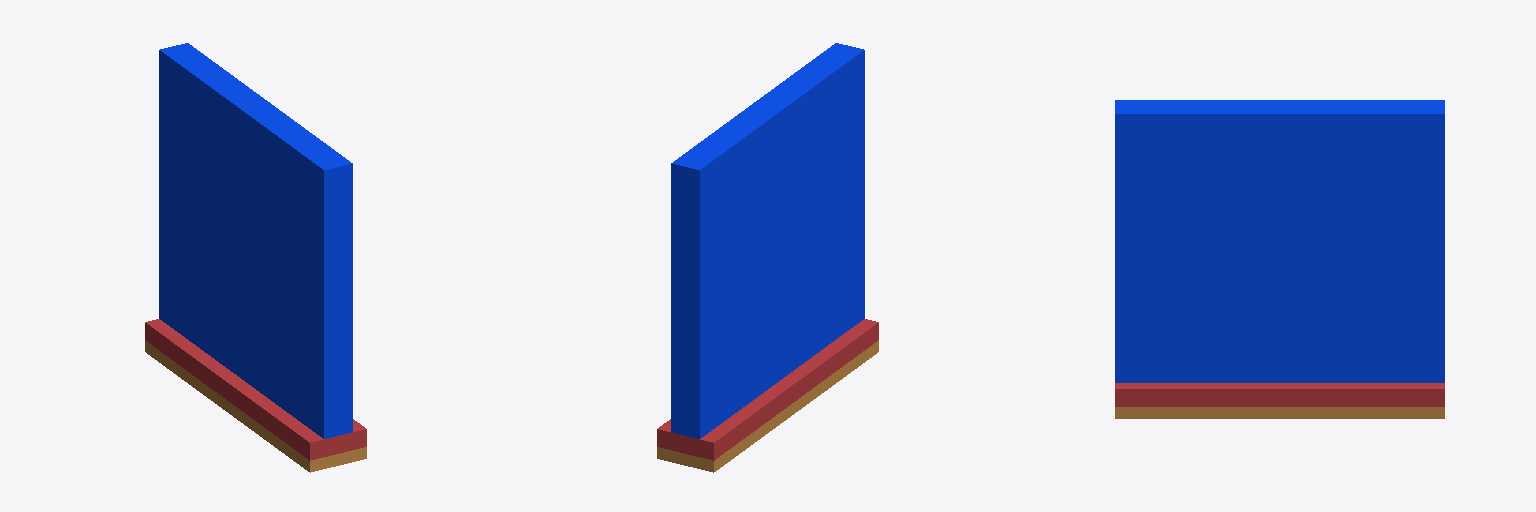
Rendered from WindowHalf.obj.
The picture shows the model from 3 angles: view 1: azimuth 30°, elevation 25°; view 2: azimuth 150°, elevation 25°; view 3: azimuth 270°, elevation 25°; orthographic projection.
Parts seen in each view (by area): view 1: WindowHalf; view 2: WindowHalf; view 3: WindowHalf.
Boxes of the visible parts, x1,y1,x2,y2 form: WindowHalf: [145, 43, 366, 472]; WindowHalf: [657, 43, 878, 472]; WindowHalf: [1115, 100, 1444, 418].
Bounding box in the file's own units: 0.2 × 1 × 1.